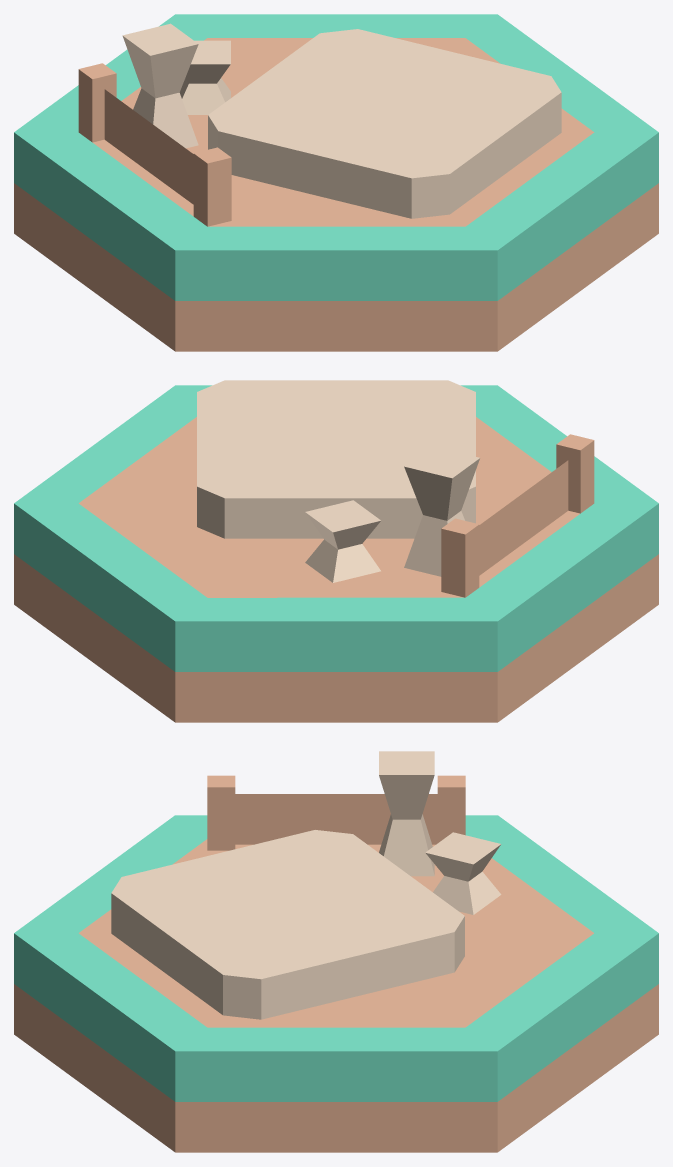
Rendered from farm.glb.
3 views of the same model, one above another, from view 1: azimuth 30°, elevation 25°; view 2: azimuth 150°, elevation 25°; view 3: azimuth 270°, elevation 25° (orthographic).
Parts seen in each view (by area): view 1: Mesh building_farm, grain, fence, grainBundle (×2); view 2: Mesh building_farm, grain, grainBundle (×2), fence; view 3: Mesh building_farm, grain, fence, grainBundle (×2).
Part boxes in pixels (left/top/right/bottom): Mesh building_farm: left=14, top=14, right=658, bottom=351; grain: left=208, top=29, right=561, bottom=218; fence: left=78, top=63, right=231, bottom=226; grainBundle (×2): left=122, top=23, right=230, bottom=148; Mesh building_farm: left=14, top=385, right=658, bottom=722; grain: left=197, top=380, right=475, bottom=538; grainBundle (×2): left=305, top=446, right=479, bottom=582; fence: left=441, top=434, right=594, bottom=597; Mesh building_farm: left=14, top=815, right=658, bottom=1152; grain: left=111, top=830, right=464, bottom=1019; fence: left=207, top=775, right=465, bottom=850; grainBundle (×2): left=379, top=751, right=501, bottom=914.
Size of the model in its own units: 1 by 0.4 by 1.15.
